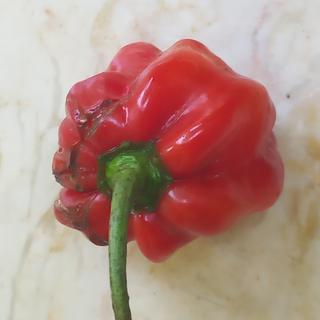Defect: (50, 90, 121, 186), (47, 194, 111, 252)
